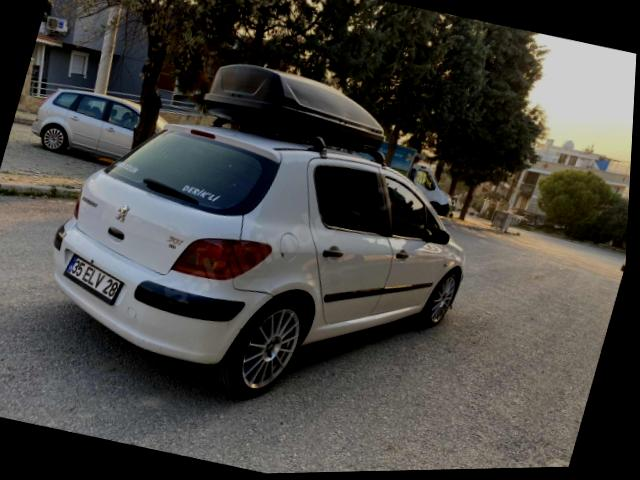plaka: (64, 255, 122, 304)
